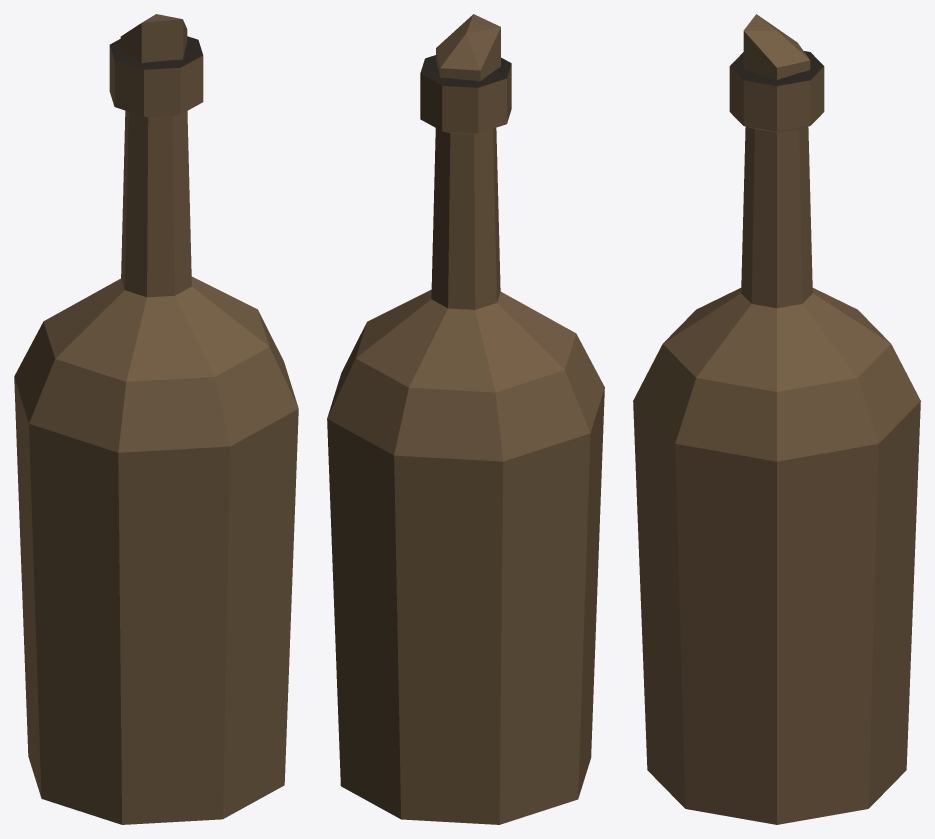
The model's file is Bottle_4.fbx.
3 renders of one model, left to right at view 1: azimuth 30°, elevation 25°; view 2: azimuth 150°, elevation 25°; view 3: azimuth 270°, elevation 25°, orthographic. The views are drawn at different scales.
Parts seen in each view (by area): view 1: polySurface1883; view 2: polySurface1883; view 3: polySurface1883.
Part boxes in pixels (x1,y1,x2,y2): polySurface1883: [14, 14, 298, 824]; polySurface1883: [327, 14, 604, 824]; polySurface1883: [633, 14, 920, 824].
Bounding box in the file's own units: 21.89 × 62.45 × 21.89.
